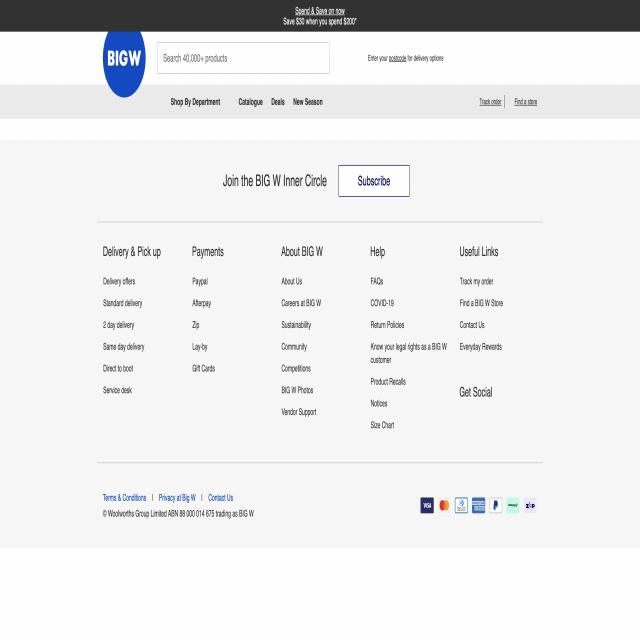Logo: (99, 32, 155, 104)
Navigation: (164, 80, 574, 122)
